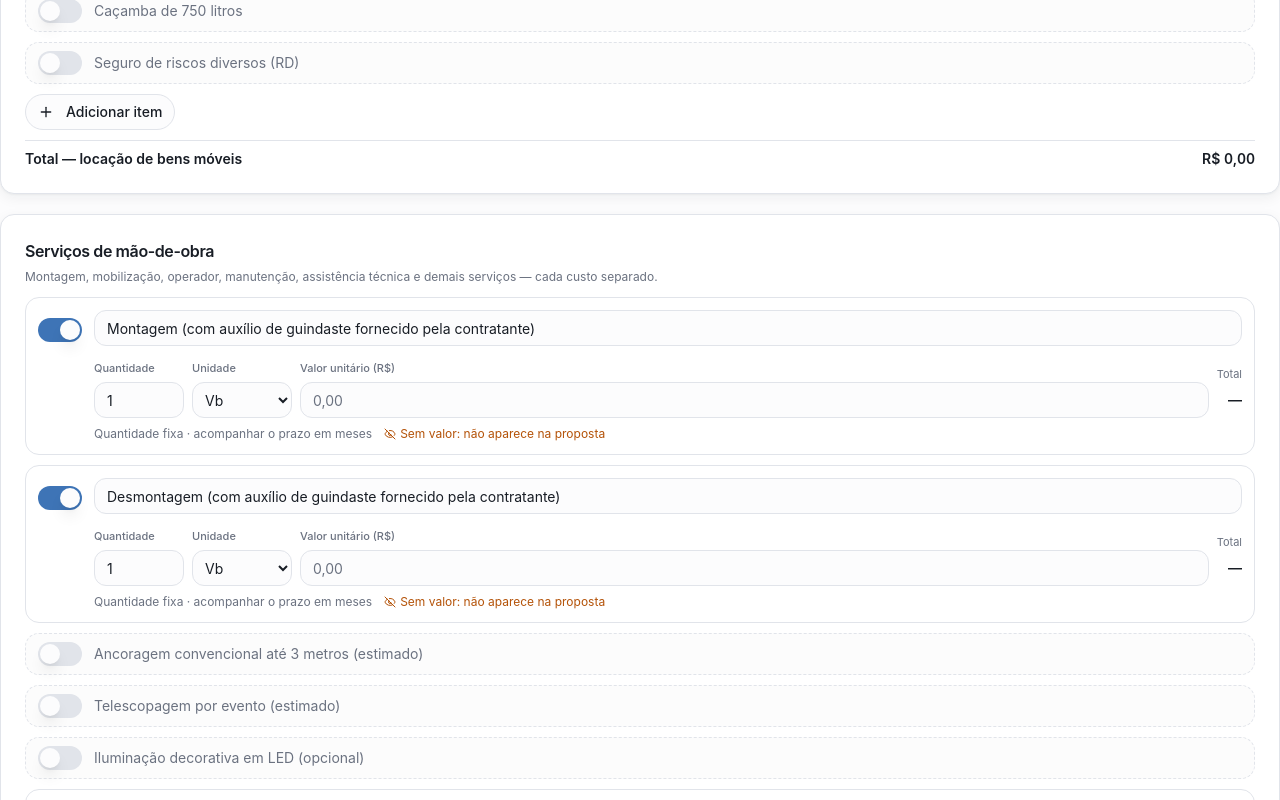
Test: etapa Preços › quantidade quebrada é arredondada (a coluna do banco é inteira)
(page scrolled)
Replace the text in the 1st number field named "Quantidade" with "2.6" at (139, 400), box [94,382,184,418]
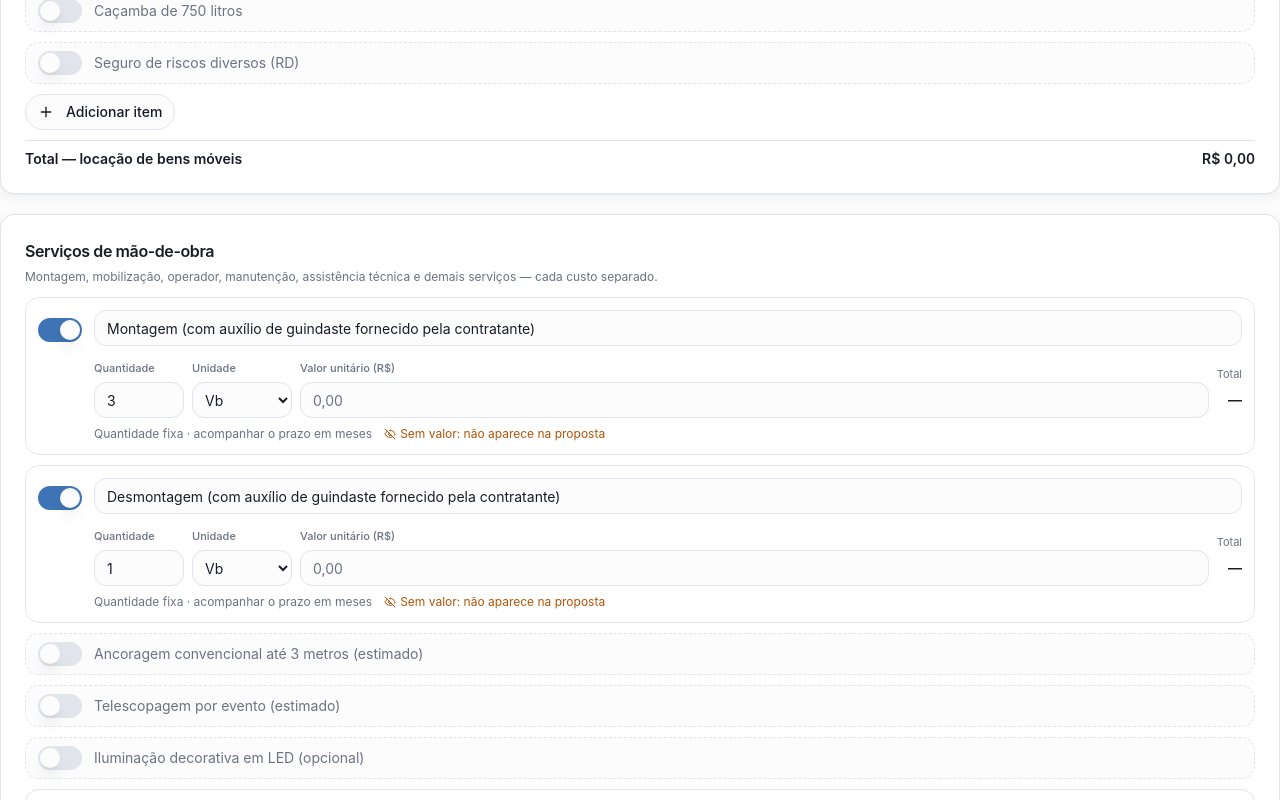
expect the 1st number field named "Quantidade" holds "3": met, box [94,382,184,418]
